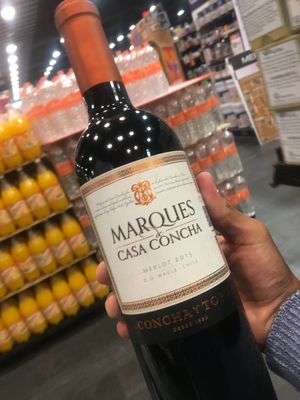marques de casa concha merlot: (62, 21, 261, 400)
